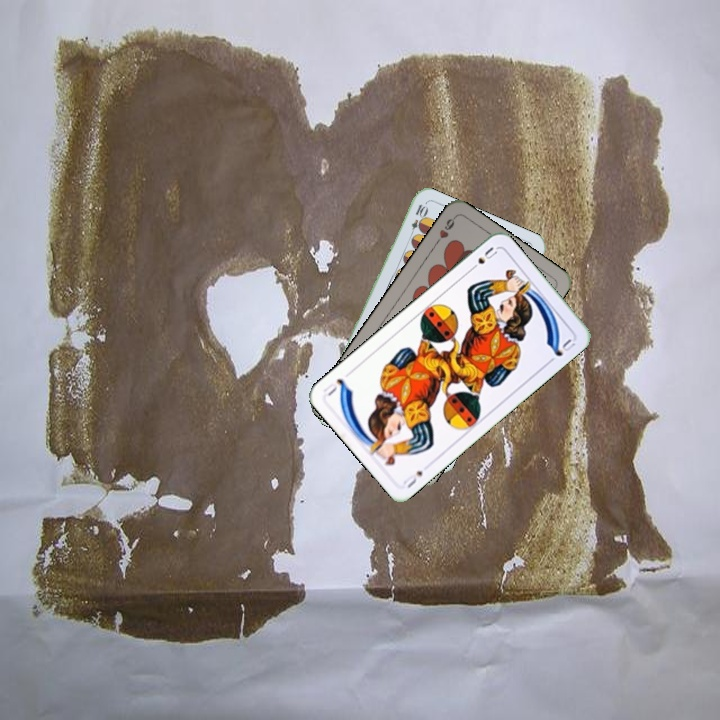E10: (406, 200, 429, 240)
H9: (430, 213, 458, 249)
SU: (466, 243, 500, 274), (401, 466, 425, 491)
